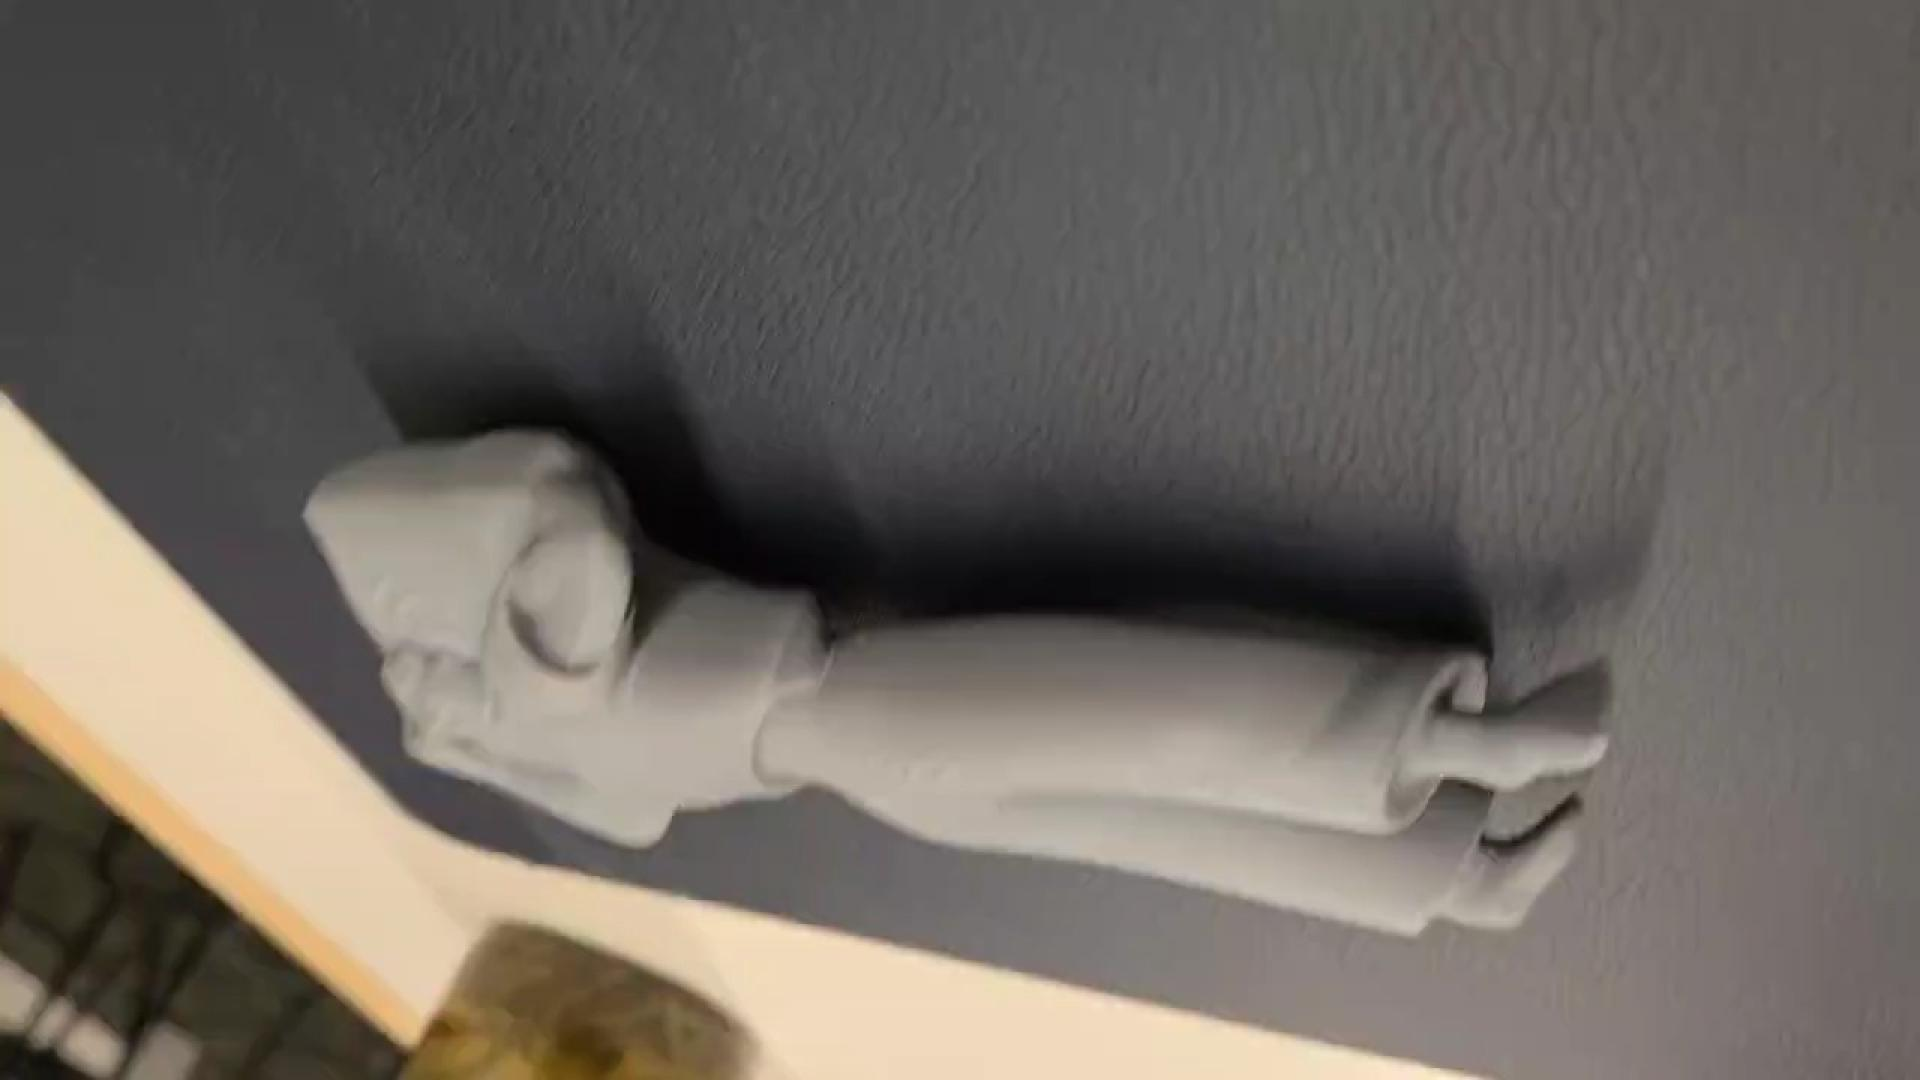Bad-style: (303, 430, 1615, 938)
